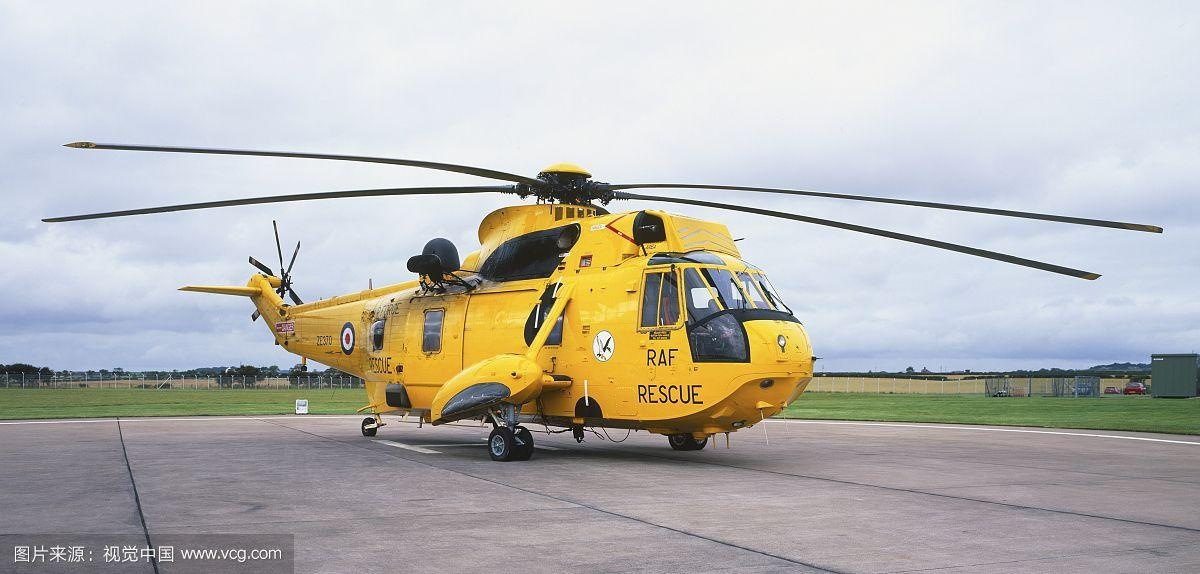airplane: (37, 116, 1169, 455)
